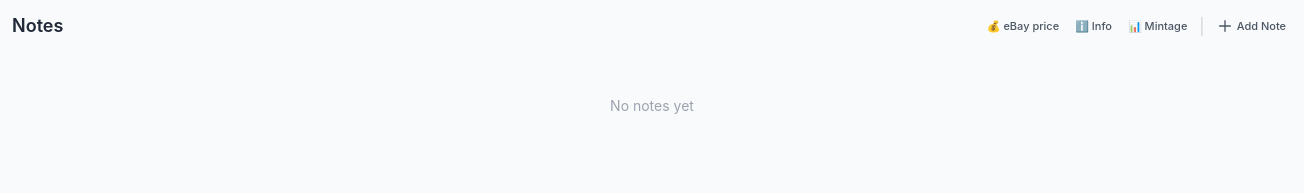
Test case: CoinNotesList AI query › shows an empty-data hint when the AI returns no usable fields
This screenshot has width=1304, height=193.
Click the button "💰 eBay price" at (1023, 26), box 981,16 -> 1065,36
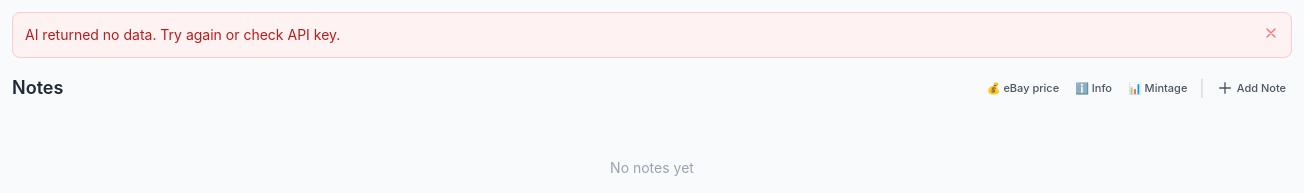
Expected: the text "AI returned no data. Try again or check API key." is shown, 25,25 -> 356,45
